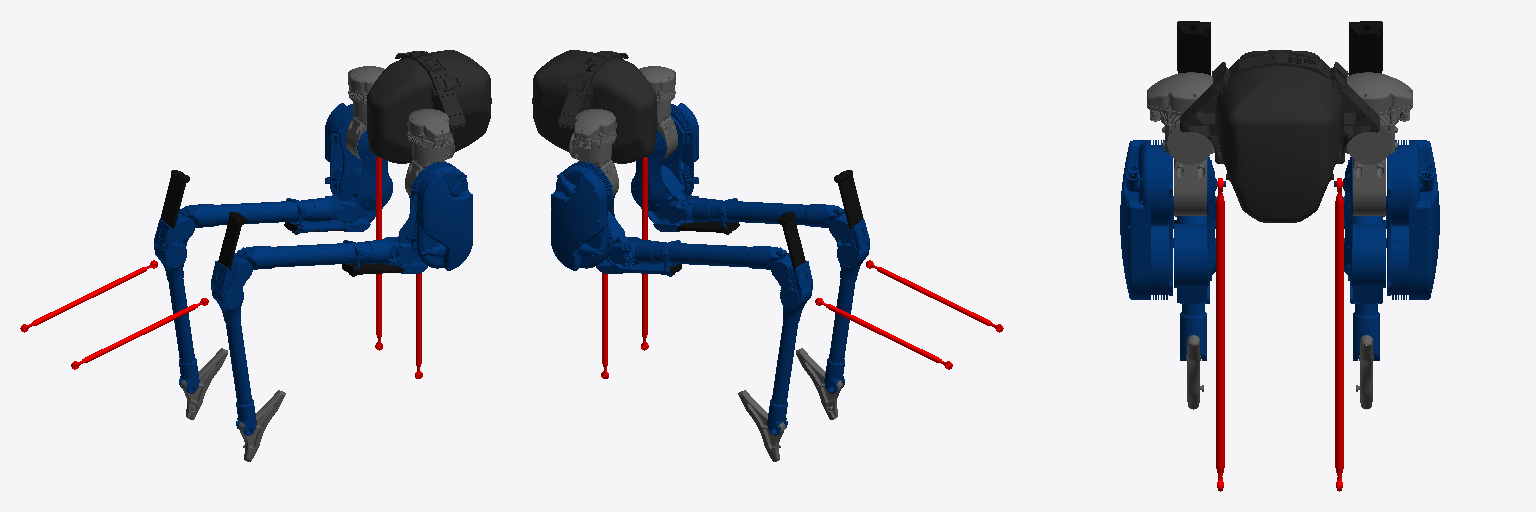
--- What the picture shows (computed from the rendered views, not written in the file) ---
The picture shows the robot from 3 angles, left to right: view 1: azimuth 30°, elevation 25°; view 2: azimuth 150°, elevation 25°; view 3: azimuth 270°, elevation 25°; orthographic projection.
Robot: cassie — 37 links, 36 joints (34 revolute, 2 fixed); root link pelvis; default pose: all joints at 0 but 6 set to mid-range because 0 is outside their limits (knee_left = -1.75, knee_right = -1.75, toe_crank_left = -1.48, toe_crank_right = -1.48, ankle_joint_left = 1.9, ankle_joint_right = 1.9).
Visible links, largest first — view 1: pelvis, thigh_right, shin_right, shin_left, tarsus_right, thigh_left, tarsus_left, yaw_right, knee_left, yaw_left, toe_left, toe_right (+9 smaller); view 2: pelvis, thigh_left, shin_left, shin_right, tarsus_left, thigh_right, tarsus_right, yaw_left, yaw_right, knee_left, toe_right, toe_left (+9 smaller); view 3: pelvis, thigh_left, thigh_right, yaw_left, yaw_right, achilles_rod_right, achilles_rod_left, knee_left, knee_right, heel_spring_left, heel_spring_right, hip_left (+5 smaller).
Link boxes in pixels (x1,y1,x2,y2): pelvis: (367, 50, 491, 163); thigh_right: (408, 162, 472, 270); shin_right: (232, 237, 415, 271); shin_left: (177, 195, 359, 230); tarsus_right: (211, 253, 256, 435); thigh_left: (325, 103, 392, 210); tarsus_left: (154, 211, 199, 393); yaw_right: (407, 109, 454, 162); knee_left: (288, 165, 392, 234); yaw_left: (348, 66, 384, 118); toe_left: (181, 348, 227, 419); toe_right: (238, 390, 285, 461); pelvis: (532, 50, 656, 163); thigh_left: (551, 162, 615, 270); shin_left: (608, 237, 791, 271); shin_right: (664, 195, 846, 230); tarsus_left: (767, 253, 812, 435); thigh_right: (631, 103, 698, 210); tarsus_right: (824, 211, 869, 393); yaw_left: (569, 109, 616, 162); yaw_right: (639, 66, 675, 118); knee_left: (596, 212, 679, 276); toe_right: (796, 348, 842, 419); toe_left: (738, 390, 785, 461); pelvis: (1180, 50, 1379, 222); thigh_left: (1334, 140, 1439, 299); thigh_right: (1120, 140, 1225, 299); yaw_left: (1345, 72, 1412, 164); yaw_right: (1147, 72, 1214, 164); achilles_rod_right: (1216, 178, 1224, 491); achilles_rod_left: (1335, 178, 1343, 491); knee_left: (1350, 220, 1385, 303); knee_right: (1174, 224, 1209, 303); heel_spring_left: (1349, 21, 1382, 75); heel_spring_right: (1177, 21, 1210, 75); hip_left: (1353, 159, 1385, 215).
Size in the robot's own frame: 1.14 by 0.4825 by 0.8441 metres.
Meshes: 20 distinct files referenced, 23 mesh visuals loaded (19 OBJ); not drawn: 2 (reference not matched to a file when rendering).

URDF robot description (cassie):
<robot name="cassie">

  <link name="pelvis">
    <inertial>
      <origin
        xyz=".05066 0.000346 .02841"
        rpy="0 0 0" />
      <mass value="10.33" />
      <inertia
        ixx=".094158"
        ixy=".0001685"
        ixz=".015026"
        iyy=".084066"
        iyz=".0005156"
        izz=".112770" />
    </inertial>
    <visual>
      <origin
        xyz="0 0 0"
        rpy="0 0 0" />
      <geometry>
        <mesh filename="package://cassie_description/meshes/pelvis.obj" />
      </geometry>
      <material name="">
        <color
          rgba="0.2 0.2 0.2 1.0" />
      </material>
    </visual>
  </link>

  <link name="yaw_left">
    <inertial>
      <origin
        xyz=".0257 0.0001 .0179"
        rpy="0 -1.570796 0" />
      <mass value="1.82" />
      <inertia
        ixx=".002722"
        ixy=".000000703"
        ixz=".00000153"
        iyy=".005586"
        iyz=".00000261"
        izz=".004638" />
    </inertial>
    <visual>
      <origin
        xyz="0 0 -0.07"
        rpy="0 -1.570796 0" />
      <geometry>
        <mesh filename="package://cassie_description/meshes/agility/left_yaw.obj" />
      </geometry>
      <material name="">
        <color rgba="0.4 0.4 0.4 1" />
      </material>
    </visual>
  </link>

  <link name="yaw_right">
    <inertial>
      <origin
        xyz=".0257 -0.0001 .0179"
        rpy="0 -1.570796 0" />
      <mass value="1.82" />
      <inertia
        ixx=".002722"
        ixy="-.000000703"
        ixz=".00000153"
        iyy=".005586"
        iyz="-.00000261"
        izz=".004638" />
    </inertial>
    <visual>
      <origin
        xyz="0 0 -0.07"
        rpy="0 -1.570796 0" />
      <geometry>
        <mesh filename="package://cassie_description/meshes/agility/right_yaw.obj" />
      </geometry>
      <material name="">
        <color rgba="0.4 0.4 0.4 1" />
      </material>
    </visual>
  </link>

  <link name="hip_left">
    <inertial>
      <origin
        xyz="-.05572 0 0.00001"
        rpy="-1.570796 1.570796 0" />
      <mass value="1.171" />
      <inertia
        ixx=".000842"
        ixy=".0000002462"
        ixz="-.0000006251"
        iyy=".006076"
        iyz="-.00000004"
        izz=".006436" />
    </inertial>
    <visual>
      <origin
        xyz="0 0 -0.09"
        rpy="-1.570796 1.570796 0" />
      <geometry>
        <mesh filename="package://cassie_description/meshes/agility/left_hip.obj" />
      </geometry>
      <material name="">
        <color rgba="0.4 0.4 0.4 1" />
      </material>
    </visual>
  </link>

  <link name="hip_right">
    <inertial>
      <origin
        xyz="-.05572 0 -0.00001"
        rpy="-1.570796 1.570796 0" />
      <mass value="1.171" />
      <inertia
        ixx=".000842"
        ixy=".0000002462"
        ixz=".0000006251"
        iyy=".006076"
        iyz=".00000004"
        izz=".006436" />
    </inertial>
    <visual>
      <origin
        xyz="0 0 -0.09"
        rpy="-1.570796 1.570796 0" />
      <geometry>
        <mesh filename="package://cassie_description/meshes/agility/right_hip.obj" />
      </geometry>
      <material name="">
        <color rgba="0.4 0.4 0.4 1" />
      </material>
    </visual>
  </link>

  <link name="thigh_left">
    <inertial>
      <origin
        xyz="0.05946 0.00005 -.03581"
        rpy="0 0 0" />
      <mass value="5.52" />
      <inertia
        ixx=".017969"
        ixy=".0002836"
        ixz="-.011685"
        iyy=".056284"
        iyz="-.00001926"
        izz=".049756" />
    </inertial>
    <visual>
      <origin
        xyz="0 0 0"
        rpy="0 0 0" />
      <geometry>
        <mesh filename="package://cassie_description/meshes/agility/left_thigh.obj" />
      </geometry>
      <material name="">
        <color rgba="0.024 0.24 0.5 1.0" />
      </material>
    </visual>
  </link>

  <link name="thigh_right">
    <inertial>
      <origin
        xyz="0.05946 0.00005 .03581"
        rpy="0 0 0" />
      <mass value="5.52" />
      <inertia
        ixx=".017969"
        ixy=".0002836"
        ixz=".011685"
        iyy=".056284"
        iyz=".00001926"
        izz=".049756" />
    </inertial>
    <visual>
      <origin
        xyz="0 0 0"
        rpy="0 0 0" />
      <geometry>
        <mesh filename="package://cassie_description/meshes/agility/right_thigh.obj" />
      </geometry>
      <material name="">
        <color rgba="0.024 0.24 0.5 1.0" />
      </material>
    </visual>
  </link>

  <link name="achilles_rod_left">
    <inertial>
      <origin
        xyz="0.24719 0 0"
        rpy="0 0 0" />
      <mass value="0.1567" />
      <inertia
        ixx=".000004"
        ixy="0"
        ixz="0"
        iyy=".014061"
        iyz="0"
        izz=".014061" />
    </inertial>
    <visual>
      <origin
        xyz="0 0 0"
        rpy="0 0 0" />
      <geometry>
        <mesh filename="package://cassie_description/meshes/achilles-rod.obj" />
      </geometry>
      <material name="">
        <color rgba="1 0 0 1.0" />
      </material>
    </visual>
  </link>

  <link name="achilles_hip_pitch_left"/>

  <link name="achilles_heel_roll_left"/>

  <link name="achilles_heel_pitch_left">
  </link>

  <link name="achilles_rod_right">
    <inertial>
      <origin
        xyz="0.24719 0 0"
        rpy="0 0 0" />
      <mass value="0.1567" />
      <inertia
        ixx=".000004"
        ixy="0"
        ixz="0"
        iyy=".014061"
        iyz="0"
        izz=".014061" />
    </inertial>
    <visual>
      <origin
        xyz="0 0 0"
        rpy="0 0 0" />
      <geometry>
        <mesh filename="package://cassie_description/meshes/achilles-rod.obj" />
      </geometry>
      <material name="">
        <color rgba="1 0 0 1.0" />
      </material>
    </visual>
  </link>

  <link name="achilles_hip_pitch_right"/>

  <link name="achilles_heel_roll_right"/>

  <link name="achilles_heel_pitch_right">
  </link>


  <link name="knee_left">
    <inertial>
      <origin
        xyz="0.023 0.03207 -0.002181"
        rpy="0 0 0" />
      <mass value="0.7578" />
      <inertia
        ixx=".002159"
        ixy=".0009564"
        ixz=".000002837"
        iyy=".001438"
        iyz=".000000739"
        izz=".003344" />
    </inertial>
    <visual>
      <origin
        xyz="0 0 0"
        rpy="0 0 0" />
      <geometry>
        <mesh filename="package://cassie_description/meshes/knee-output.obj" />
      </geometry>
      <material name="">
        <color rgba="0.024 0.24 0.5 1.0" />
      </material>
    </visual>
  </link>

  <link name="knee_right">
    <inertial>
      <origin
        xyz="0.023 0.03207 0.002181"
        rpy="0 0 0" />
      <mass value="0.7578" />
      <inertia
        ixx=".002159"
        ixy=".0009564"
        ixz=".000002837"
        iyy=".001438"
        iyz="-.000000739"
        izz=".003344" />
    </inertial>
    <visual>
      <origin
        xyz="0 0 0"
        rpy="0 0 0" />
      <geometry>
        <mesh filename="package://cassie_description/meshes/knee-output-r.obj" />
      </geometry>
      <material name="">
        <color rgba="0.024 0.24 0.5 1.0" />
      </material>
    </visual>
  </link>

  <link name="shin_left">
    <inertial>
      <origin
        xyz=".18338 0.001169 0.0002123"
        rpy="0 0 0" />
      <mass value="0.5771" />
      <inertia
        ixx=".0003602"
        ixy=".0003335"
        ixz="-.0000001941"
        iyy=".034132"
        iyz=".0000002652"
        izz=".034111" />
    </inertial>
    <visual>
      <origin
        xyz="0 0 0"
        rpy="0 0 0" />
      <geometry>
        <mesh filename="package://cassie_description/meshes/agility/left_shin.obj" />
      </geometry>
      <material name="">
        <color rgba="0.024 0.24 0.5 1.0" />
      </material>
    </visual>
  </link>

  <link name="shin_right">
    <inertial>
      <origin
        xyz=".18338 0.001169 -0.0002123"
        rpy="0 0 0" />
      <mass value="0.5771" />
      <inertia
        ixx=".0003602"
        ixy=".000334"
        ixz=".0000001941"
        iyy=".034132"
        iyz="-.0000002652"
        izz=".034111" />
    </inertial>
    <visual>
      <origin
        xyz="0 0 0"
        rpy="0 0 0" />
      <geometry>
        <mesh filename="package://cassie_description/meshes/agility/right_shin.obj" />
      </geometry>
      <material name="">
        <color rgba="0.024 0.24 0.5 1.0" />
      </material>
    </visual>
  </link>

  <link name="knee_spring_left">
    <inertial>
      <origin
        xyz=".08364 0.003427 0.0"
        rpy="0 0 0" />
      <mass value="0.1864" />
      <inertia
        ixx=".0000543"
        ixy=".00004601"
        ixz="0.0"
        iyy=".001712"
        iyz="0.0"
        izz=".001669" />
    </inertial>
    <visual>
      <origin
        xyz="0 0 0"
        rpy="0 0 0" />
      <geometry>
        <mesh filename="package://cassie_description/meshes/knee-spring.obj" />
      </geometry>
      <material name="">
        <color rgba="0.1 0.1 0.1 1" />
      </material>
    </visual>
  </link>

  <link name="knee_spring_right">
    <inertial>
      <origin
        xyz=".08364 0.003427 0.0"
        rpy="0 0 0" />
      <mass value="0.1864" />
      <inertia
        ixx=".0000543"
        ixy=".00004601"
        ixz="0.0"
        iyy=".001712"
        iyz="0.0"
        izz=".001669" />
    </inertial>
    <visual>
      <origin
        xyz="0 0 0"
        rpy="0 0 0" />
      <geometry>
        <mesh filename="package://cassie_description/meshes/knee-spring.obj" />
      </geometry>
      <material name="">
        <color rgba="0.1 0.1 0.1 1" />
      </material>
    </visual>
  </link>

  <link name="tarsus_left">
    <inertial>
      <origin
        xyz=".11046 -.03058 -.00131"
        rpy="0 0 0" />
      <mass value="0.782" />
      <inertia
        ixx=".001125"
        ixy="-.002878"
        ixz="-.00006329"
        iyy=".023138"
        iyz=".00003615"
        izz=".023947" />
    </inertial>
    <visual>
      <origin
        xyz="0 0 0"
        rpy="0 0 0" />
      <geometry>
        <mesh filename="package://cassie_description/meshes/tarsus.obj" />
      </geometry>
      <material name="">
        <color rgba="0.024 0.24 0.5 1.0" />
      </material>
    </visual>
  </link>

  <link name="tarsus_right">
    <inertial>
      <origin
        xyz=".11046 -.03058 -.00131"
        rpy="0 0 0" />
      <mass value="0.782" />
      <inertia
        ixx=".001125"
        ixy="-.002878"
        ixz=".00006329"
        iyy=".023138"
        iyz="-.00003615"
        izz=".023947" />
    </inertial>
    <visual>
      <origin
        xyz="0 0 0"
        rpy="0 0 0" />
      <geometry>
        <mesh filename="package://cassie_description/meshes/tarsus-r.obj" />
      </geometry>
      <material name="">
        <color rgba="0.024 0.24 0.5 1.0" />
      </material>
    </visual>
  </link>

  <link name="heel_spring_left">
    <inertial>
      <origin
        xyz="0.08097 0.00223 -0.0000385"
        rpy="0 0 0" />
      <mass value="0.1259" />
      <inertia
        ixx=".00003016"
        ixy=".00001528"
        ixz=".000000575"
        iyy=".001049"
        iyz="-.0000000557"
        izz=".001028" />
    </inertial>
    <visual>
      <origin
        xyz="0 0 0"
        rpy="0 0 0" />
      <geometry>
        <mesh filename="package://cassie_description/meshes/heel-spring.obj" />
      </geometry>
      <material name="">
        <color rgba="0.1 0.1 0.1 1" />
      </material>
    </visual>
  </link>

  <link name="heel_spring_right">
    <inertial>
      <origin
        xyz="0.08097 0.00223 -0.0000385"
        rpy="0 0 0" />
      <mass value="0.1259" />
      <inertia
        ixx=".00003016"
        ixy=".00001528"
        ixz=".000000575"
        iyy=".001049"
        iyz="-.0000000557"
        izz=".001028" />
    </inertial>
    <visual>
      <origin
        xyz="0 0 0"
        rpy="0 0 0" />
      <geometry>
        <mesh filename="package://cassie_description/meshes/heel-spring.obj" />
      </geometry>
      <material name="">
        <color rgba="0.1 0.1 0.1 1" />
      </material>
    </visual>
  </link>

  <link name="foot_crank_link_left">
    <inertial>
      <origin
        xyz="0.00481 0.00002 -0.00293"
        rpy="0 0 0" />
      <mass value="0.129" />
      <inertia
        ixx=".0000307"
        ixy=".0000000019"
        ixz=".00000262"
        iyy=".00005705"
        iyz=".0000000066"
        izz=".00006643" />
    </inertial>
    <visual>
      <origin
        xyz="0 0 0"
        rpy="0 0 0" />
      <geometry>
        <mesh filename="package://cassie_description/meshes/agility/foot_crank.obj" />
      </geometry>
      <material name="">
        <color rgba="0.024 0.24 0.5 1.0" />
        <!-- <color rgba="1.0 0.423529411765 0.0392156862745 1.0" /> -->
      </material>
    </visual>
  </link>

  <link name="plantar_rod_left">
    <inertial>
      <origin
        xyz="0.17792 0 0"
        rpy="0 0 0" />
      <mass value="0.1186" />
      <inertia
        ixx=".0000028"
        ixy="0"
        ixz="0"
        iyy=".005530"
        iyz="0"
        izz=".005530" />
    </inertial>
    <visual>
      <origin
        xyz="0 0 0"
        rpy="0 0 0" />
      <geometry>
        <mesh filename="package://cassie_description/meshes/plantar-rod.obj" />
      </geometry>
      <material name="">
        <color rgba="1 0 0 1.0" />
      </material>
    </visual>
  </link>

  <link name="plantar_crank_pitch_left"/>

  <link name="plantar_foot_roll_left"/>
  <link name="plantar_foot_pitch_left"/>

  <link name="plantar_rod_right">
    <inertial>
      <origin
        xyz="0.17792 0 0"
        rpy="0 0 0" />
      <mass value="0.1186" />
      <inertia
        ixx=".0000028"
        ixy="0"
        ixz="0"
        iyy=".005530"
        iyz="0"
        izz=".005530" />
    </inertial>
    <visual>
      <origin
        xyz="0 0 0"
        rpy="0 0 0" />
      <geometry>
        <mesh filename="package://cassie_description/meshes/plantar-rod.obj" />
      </geometry>
      <material name="">
        <color rgba="1 0 0 1.0" />
      </material>
    </visual>
  </link>

  <link name="plantar_crank_pitch_right"/>

  <link name="plantar_foot_roll_right"/>

  <link name="plantar_foot_pitch_right"/>

  <link name="foot_crank_link_right">
    <inertial>
      <origin
        xyz="0.00481 0.00002 -0.00293"
        rpy="0 0 0" />
      <mass value="0.129" />
      <inertia
        ixx=".0000307"
        ixy=".0000000019"
        ixz=".00000262"
        iyy=".00005705"
        iyz=".0000000066"
        izz=".00006643" />
    </inertial>
    <visual>
      <origin
        xyz="0 0 0"
        rpy="0 0 0" />
      <geometry>
        <mesh filename="package://cassie_description/meshes/agility/foot_crank.obj" />
      </geometry>
      <material name="">
        <color rgba="0.024 0.24 0.5 1.0" />
        <!-- <color rgba="1.0 0.423529411765 0.0392156862745 1.0" /> -->
      </material>
    </visual>
  </link>

  <link name="toe_left">
    <inertial>
      <origin
        xyz="0.00474 0.02748 -0.00014"
        rpy="0 0 0" />
      <mass value="0.1498" />
      <inertia
        ixx=".000287"
        ixy="-.00009863"
        ixz="-.000001456"
        iyy=".0001713"
        iyz=".0000001716"
        izz=".0004491" />
    </inertial>
    <visual>
      <origin
        xyz="0 0 0"
        rpy="0 0 0" />
      <geometry>
        <mesh filename="package://cassie_description/meshes/agility/left_foot.obj" />
        <!-- <mesh filename="package://cassie_description/meshes/toe.obj" /> -->
      </geometry>
      <material name="">
        <color rgba="0.4 0.4 0.4 1" />
      </material>
    </visual>

    <visual>
      <geometry>
        <sphere radius="0.001"/>
      </geometry>
      <origin xyz="-0.0457 .112 0" rpy="0 0 0"/>
    </visual>
    <collision>
      <geometry>
        <sphere radius="0.0"/>
      </geometry>
      <origin xyz="-0.0457 .112 0" rpy="0 0 0"/>
    </collision>
   <visual>
      <geometry>
        <sphere radius="0.001"/>
      </geometry>
      <origin xyz="0.088 0 0" rpy="0 0 0"/>
    </visual>
    <collision>
      <geometry>
        <sphere radius="0.0"/>
      </geometry>
      <origin xyz="0.088 0 0" rpy="0 0 0"/>
    </collision>
   </link>

  <link name="toe_right">
    <inertial>
      <origin
        xyz="0.00474 0.02748 0.00014"
        rpy="0 0 0" />
      <mass value="0.1498" />
      <inertia
        ixx=".000287"
        ixy="-.00009863"
        ixz=".000001456"
        iyy=".0001713"
        iyz="-.0000001716"
        izz=".0004491" />
    </inertial>
    <visual>
      <origin
        xyz="0 0 0"
        rpy="0 0 0" />
      <geometry>
        <mesh filename="package://cassie_description/meshes/agility/right_foot.obj" />
        <!-- <mesh filename="package://cassie_description/meshes/toe-r.obj" /> -->
      </geometry>
      <material name="">
        <color rgba="0.4 0.4 0.4 1" />
      </material>
    </visual>
        <visual>
      <geometry>
        <sphere radius="0.001"/>
      </geometry>
      <origin xyz="-0.0457 .112 0" rpy="0 0 0"/>
    </visual>
    <collision>
      <geometry>
        <sphere radius="0.0"/>
      </geometry>
      <origin xyz="-0.0457 .112 0" rpy="0 0 0"/>
    </collision>
   <visual>
      <geometry>
        <sphere radius="0.001"/>
      </geometry>
      <origin xyz="0.088 0 0" rpy="0 0 0"/>
    </visual>
    <collision>
      <geometry>
        <sphere radius="0.0"/>
      </geometry>
      <origin xyz="0.088 0 0" rpy="0 0 0"/>
    </collision>
  </link>


 
 <!-- JOINTS ||| JOINTS ||| JOINTS ||| JOINTS ||| JOINTS |||-->
 <!-- JOINTS ||| JOINTS ||| JOINTS ||| JOINTS ||| JOINTS |||-->
 <!-- JOINTS ||| JOINTS ||| JOINTS ||| JOINTS ||| JOINTS |||-->
 <!-- JOINTS ||| JOINTS ||| JOINTS ||| JOINTS ||| JOINTS |||-->
 <!-- JOINTS ||| JOINTS ||| JOINTS ||| JOINTS ||| JOINTS |||-->
 <!-- JOINTS ||| JOINTS ||| JOINTS ||| JOINTS ||| JOINTS |||-->
 <!-- JOINTS ||| JOINTS ||| JOINTS ||| JOINTS ||| JOINTS |||-->
 <!-- JOINTS ||| JOINTS ||| JOINTS ||| JOINTS ||| JOINTS |||-->
 <!-- JOINTS ||| JOINTS ||| JOINTS ||| JOINTS ||| JOINTS |||-->
 <!-- JOINTS ||| JOINTS ||| JOINTS ||| JOINTS ||| JOINTS |||-->


  <joint name="hip_roll_left" type="revolute">
    <origin xyz=".021 .135 0" rpy="0 1.570796 0" />
    <parent link="pelvis" />
    <child link="yaw_left" />
    <axis xyz="0 0 1" />
    <limit lower="-0.262" upper="0.393" effort="300"/>
    <dynamics damping="1" /> 
  </joint>

  <joint name="hip_roll_right" type="revolute">
    <origin xyz=".021 -.135 0" rpy="0 1.570796 0" />
    <parent link="pelvis" />
    <child link="yaw_right" />
    <axis xyz="0 0 1" />
    <limit lower="-0.393" upper="0.262" effort="300"/>
    <dynamics damping="1" /> 
  </joint> 


  <joint name="hip_yaw_left" type="revolute">
    <origin xyz="0 0 -0.07" rpy="0 -1.570796 0" />
    <parent link="yaw_left" />
    <child link="hip_left" />
    <axis xyz="0 0 1" />
    <limit lower="-0.393" upper="0.393" effort="300"/>
    <dynamics damping="1" /> 
  </joint>

   <joint name="hip_yaw_right" type="revolute">
    <origin xyz="0 0 -0.07" rpy="0 -1.570796 0" />
    <parent link="yaw_right" />
    <child link="hip_right" />
    <axis xyz="0 0 1" />
    <limit lower="-0.393" upper="0.393" effort="300"/>
    <dynamics damping="1" /> 
  </joint>


  <joint name="hip_pitch_left" type="revolute">
    <origin xyz="0 0 -0.09" rpy="1.570796 1.570796 0" />
    <parent link="hip_left" />
    <child link="thigh_left" />
    <axis xyz="0 0 1" />
    <limit lower="-0.873" upper="1.396" effort="300"/>
    <dynamics damping="1" /> 
  </joint>

  <joint name="hip_pitch_right" type="revolute">
    <origin xyz="0 0 -0.09" rpy="1.570796 1.570796 0" />
    <parent link="hip_right" />
    <child link="thigh_right" />
    <axis xyz="0 0 1" />
    <limit lower="-0.873" upper="1.396" effort="300"/>
    <dynamics damping="1" /> 
  </joint>

  <joint name="achilles_hip_left" type="revolute">
    <origin xyz ="0  0  .045" rpy="0 0 0" />
    <parent link="thigh_left" />
    <child link="achilles_hip_pitch_left" />
    <axis xyz ="0 1 0" />
    <dynamics damping="0.01" />
    <limit lower="-3.14" upper="3.14"/>
  </joint>

  <joint name="achilles_hip_pitch_left" type="revolute">
    <parent link="achilles_hip_pitch_left" />
    <child link="achilles_rod_left" />
    <axis xyz ="0 0 1" />
    <dynamics damping="0.01" />
    <limit lower="-3.14" upper="3.14"/>
  </joint>

  <joint name="achilles_heel_roll_left" type="revolute">
    <origin xyz=".5012 0 0" />
    <parent link="achilles_rod_left" />
    <child link="achilles_heel_roll_left" />
    <axis xyz ="1 0 0" />
    <dynamics damping="0.01" />
    <limit lower="-20" upper="20"/>
  </joint>

  <joint name="achilles_heel_pitch_left" type="revolute">
    <origin xyz="0 0 0" />
    <parent link="achilles_heel_roll_left" />
    <child link="achilles_heel_pitch_left" />
    <axis xyz ="0 1 0" />
    <dynamics damping="0.01" />
    <limit lower="-3.14" upper="3.14"/>
  </joint>

  <joint name="achilles_hip_right" type="revolute">
    <origin xyz ="0  0  -.045" rpy="0 0 0" />
    <parent link="thigh_right" />
    <child link="achilles_hip_pitch_right" />
    <axis xyz ="0 1 0" />
    <dynamics damping="0.01" />
    <limit lower="-3.14" upper="3.14"/>
  </joint>

  <joint name="achilles_hip_pitch_right" type="revolute">
    <parent link="achilles_hip_pitch_right" />
    <child link="achilles_rod_right" />
    <axis xyz ="0 0 1" />
    <dynamics damping="0.01" />
    <limit lower="-3.14" upper="3.14"/>
  </joint>

  <joint name="achilles_heel_roll_right" type="revolute">
    <origin xyz=".5012 0 0" />
    <parent link="achilles_rod_right" />
    <child link="achilles_heel_roll_right" />
    <axis xyz ="1 0 0" />
    <dynamics damping="0.01" />
    <limit lower="-3.14" upper="3.14"/>
  </joint>

  <joint name="achilles_heel_pitch_right" type="revolute">
    <origin xyz="0 0 0" />
    <parent link="achilles_heel_roll_right" />
    <child link="achilles_heel_pitch_right" />
    <axis xyz ="0 1 0" />
    <dynamics damping="0.01" />
    <limit lower="-3.14" upper="3.14"/>
  </joint>


  <joint name="knee_left" type="revolute">
    <origin xyz="0.12 0 0.0045" rpy="0 0 0" />
    <parent link="thigh_left" />
    <child link="knee_left" />
    <axis xyz="0 0 1" />
    <limit lower="-2.862" upper="-0.646" effort="300"/>
    <dynamics damping="1" />
  </joint>

  <joint name="knee_right" type="revolute">
    <origin xyz="0.12 0 -0.0045" rpy="0 0 0" />
    <parent link="thigh_right" />
    <child link="knee_right" />
    <axis xyz="0 0 1" />
    <limit lower="-2.862" upper="-0.646" effort="300"/>
    <dynamics damping="1" />
  </joint>


  <joint name="toe_crank_left" type="revolute">
    <origin xyz="0.058 -0.034 0.02275" rpy="0 0 0" />
    <parent link="tarsus_left" />
    <child link="foot_crank_link_left" />
    <axis xyz="0 0 1" />
    <limit lower="-2.443" upper="-0.524" effort="300"/>
    <dynamics damping="1" />
  </joint>

  <joint name="plantar_crank_left" type="revolute">
    <origin xyz ="0.055  0  -.00791" rpy="0 0 0" />
    <parent link="foot_crank_link_left" />
    <child link="plantar_crank_pitch_left" />
    <axis xyz ="0 1 0" />
    <dynamics damping="0.01" />
    <limit lower="-3.14" upper="3.14"/>
  </joint>

  <joint name="plantar_crank_pitch_left" type="revolute">
    <parent link="plantar_crank_pitch_left" />
    <child link="plantar_rod_left" />
    <axis xyz ="0 0 1" />
    <dynamics damping="0.01" />
    <limit lower="-3.14" upper="3.14"/>
  </joint>

  <joint name="plantar_foot_roll_left" type="revolute">
    <origin xyz=".35012 0 0" />
    <parent link="plantar_rod_left" />
    <child link="plantar_foot_roll_left" />
    <axis xyz ="1 0 0" />
    <dynamics damping="0.01" />
    <limit lower="-3.14" upper="3.14"/>
  </joint>

  <joint name="plantar_foot_pitch_left" type="revolute">
    <origin xyz="0 0 0" />
    <parent link="plantar_foot_roll_left" />
    <child link="plantar_foot_pitch_left" />
    <axis xyz ="0 1 0" />
    <dynamics damping="0.01" />
    <limit lower="-3.14" upper="3.14"/>
  </joint>

  <joint name="plantar_crank_right" type="revolute">
    <origin xyz ="0.055  0  .00791" rpy="0 0 0" />
    <parent link="foot_crank_link_right" />
    <child link="plantar_crank_pitch_right" />
    <axis xyz ="0 1 0" />
    <dynamics damping="0.01" />
    <limit lower="-3.14" upper="3.14"/>
  </joint>

  <joint name="plantar_crank_pitch_right" type="revolute">
    <parent link="plantar_crank_pitch_right" />
    <child link="plantar_rod_right" />
    <axis xyz ="0 0 1" />
    <dynamics damping="0.01" />
    <limit lower="-3.14" upper="3.14"/>
  </joint>

  <joint name="plantar_foot_roll_right" type="revolute">
    <origin xyz=".35012 0 0" />
    <parent link="plantar_rod_right" />
    <child link="plantar_foot_roll_right" />
    <axis xyz ="1 0 0" />
    <dynamics damping="0.01" />
    <limit lower="-3.14" upper="3.14"/>
  </joint>

  <joint name="plantar_foot_pitch_right" type="revolute">
    <origin xyz="0 0 0" />
    <parent link="plantar_foot_roll_right" />
    <child link="plantar_foot_pitch_right" />
    <axis xyz ="0 1 0" />
    <dynamics damping="0.01" />
    <limit lower="-3.14" upper="3.14"/>
  </joint>


  <joint name="toe_crank_right" type="revolute">
    <origin xyz="0.058 -0.034 -0.02275" rpy="0 0 0" />
    <parent link="tarsus_right" />
    <child link="foot_crank_link_right" />
    <axis xyz="0 0 1" />
    <limit lower="-2.443" upper="-0.524" effort="300"/>
    <dynamics damping="1" />
  </joint>


  <joint name="knee_joint_left" type="revolute">
    <origin xyz="0.06068 0.04741 0" rpy="0 0 0" />
    <parent link="knee_left" />
    <child link="shin_left" />
    <axis xyz="0 0 1" />
    <limit lower="-.1" upper="0.075"/>
    <dynamics damping=".10" />
  </joint>

  <joint name="knee_joint_right" type="revolute">
    <origin xyz="0.06068 0.04741 0" rpy="0 0 0" />
    <parent link="knee_right" />
    <child link="shin_right" />
    <axis xyz="0 0 1" />
    <limit lower="-.1" upper="0.075"/>
    <dynamics damping=".10" />
  </joint>


  <joint name="knee_spring_left_fixed" type="fixed">
    <origin xyz="0.06068 0.08241 0" rpy="0 0 0" />
    <parent link="knee_left" />
    <child link="knee_spring_left" />
  </joint> 

  <joint name="knee_spring_right_fixed" type="fixed">
    <origin xyz="0.06068 0.08241 0" rpy="0 0 0" />
    <parent link="knee_right" />
    <child link="knee_spring_right" />
  </joint> 


  <joint name="ankle_joint_left" type="revolute">
    <origin xyz="0.43476 0.02 0" rpy="0 0 0" />
    <parent link="shin_left" />
    <child link="tarsus_left" />
    <axis xyz="0 0 1" />
    <limit lower=".8" upper="3"/>
    <dynamics damping="0.1" /> 
  </joint>

  <joint name="ankle_joint_right" type="revolute">
    <origin xyz="0.43476 0.02 0" rpy="0 0 0" />
    <parent link="shin_right" />
    <child link="tarsus_right" />
    <axis xyz="0 0 1" />
    <limit lower=".8" upper="3"/>
    <dynamics damping="0.1" />
  </joint>

<!-- rpy="-0.0689 -0.0370 2.7208"-->
  <joint name="ankle_spring_joint_left" type="revolute">
    <origin xyz="-.01269 -.03059 .00092" rpy="0.0780 0.00549 2.7192" />
    <parent link="tarsus_left" />
    <child link="heel_spring_left" />
    <limit lower="-.1" upper="0.1"/>
    <axis xyz="0 0 1" />
    <dynamics damping="10" /> <!-- made up value -->
  </joint> 

<!-- rpy="0.0734 0.0269 2.7201"-->
  <joint name="ankle_spring_joint_right" type="revolute">
    <origin xyz="-.01269 -.03059 -.00092" rpy="-0.0780 -0.00549 2.7192" />
    <parent link="tarsus_right" />
    <child link="heel_spring_right" />
    <limit lower="-.1" upper="0.1"/>
    <axis xyz="0 0 1" />
    <dynamics damping="10" /> <!-- made up value -->
  </joint> 


  <joint name="toe_left" type="revolute">
    <origin xyz="0.408 -0.040 0" rpy="0 0 0" />
    <parent link="tarsus_left" />
    <child link="toe_left" />
    <axis xyz="0 0 1" />
    <limit lower="-3.14" upper="3.14"/>
    <dynamics damping="1" /> 
  </joint>

  <joint name="toe_right" type="revolute">
    <origin xyz="0.408 -0.040 0" rpy="0 0 0" />
    <parent link="tarsus_right" />
    <child link="toe_right" />
    <axis xyz="0 0 1" />
    <limit lower="-3.14" upper="3.14"/>
    <dynamics damping="1" /> 
  </joint>

 <!-- LOOP_JOINTS ||| LOOP_JOINTS ||| LOOP_JOINTS ||| LOOP_JOINTS |||-->
 <loop_joint name="achilles_loop_left">
    <link1 link="achilles_heel_pitch_left" xyz="0 0 0" />
    <link2 link="heel_spring_left" xyz=".11877 -.01 0" />
    <axis xyz="0 0 1"/>
  </loop_joint>

 <loop_joint name="achilles_loop_right">
    <link1 link="achilles_heel_pitch_right" xyz="0 0 0" />
    <link2 link="heel_spring_right" xyz=".11877 -.01 0" />
    <axis xyz="0 0 1"/>
  </loop_joint>

 <loop_joint name="plantar_loop_left">
    <link1 link="plantar_foot_pitch_left" xyz="0 0 0" />
    <link2 link="toe_left" xyz=".055 0 .00776" />
    <axis xyz="0 0 1"/>
  </loop_joint>

 <loop_joint name="plantar_loop_right">
    <link1 link="plantar_foot_pitch_right" xyz="0 0 0" />
    <link2 link="toe_right" xyz=".055 0 -.00776" />
    <axis xyz="0 0 1"/>
  </loop_joint>

 <!-- MOTORS ||| MOTORS ||| MOTORS ||| MOTORS ||| MOTORS |||-->
 <!-- MOTORS ||| MOTORS ||| MOTORS ||| MOTORS ||| MOTORS |||-->
 <!-- MOTORS ||| MOTORS ||| MOTORS ||| MOTORS ||| MOTORS |||-->
 <!-- MOTORS ||| MOTORS ||| MOTORS ||| MOTORS ||| MOTORS |||-->
 <!-- MOTORS ||| MOTORS ||| MOTORS ||| MOTORS ||| MOTORS |||-->
 <!-- MOTORS ||| MOTORS ||| MOTORS ||| MOTORS ||| MOTORS |||-->
 <!-- MOTORS ||| MOTORS ||| MOTORS ||| MOTORS ||| MOTORS |||-->
 <!-- MOTORS ||| MOTORS ||| MOTORS ||| MOTORS ||| MOTORS |||-->
 <!-- MOTORS ||| MOTORS ||| MOTORS ||| MOTORS ||| MOTORS |||-->
 <!-- MOTORS ||| MOTORS ||| MOTORS ||| MOTORS ||| MOTORS |||-->

  <transmission name="hip_roll_left_trans" type="transmission_interface/SimpleTransmission">
    <actuator name="hip_roll_left_motor"/>
    <joint name="hip_roll_left"/>
    <mechanicalReduction>1</mechanicalReduction>
  </transmission>

  <transmission name="hip_roll_right_trans" type="transmission_interface/SimpleTransmission">
    <actuator name="hip_roll_right_motor"/>
    <joint name="hip_roll_right"/>
    <mechanicalReduction>1</mechanicalReduction>
  </transmission>

  <transmission name="hip_yaw_left_trans" type="transmission_interface/SimpleTransmission">
    <actuator name="hip_yaw_left_motor"/>
    <joint name="hip_yaw_left"/>
    <mechanicalReduction>1</mechanicalReduction>
  </transmission>

  <transmission name="hip_yaw_right_trans" type="transmission_interface/SimpleTransmission">
    <actuator name="hip_yaw_right_motor"/>
    <joint name="hip_yaw_right"/>
    <mechanicalReduction>1</mechanicalReduction>
  </transmission>

  <transmission name="hip_pitch_left_trans" type="transmission_interface/SimpleTransmission">
    <actuator name="hip_pitch_left_motor"/>
    <joint name="hip_pitch_left"/>
    <mechanicalReduction>1</mechanicalReduction>
  </transmission>

  <transmission name="hip_pitch_right_trans" type="transmission_interface/SimpleTransmission">
    <actuator name="hip_pitch_right_motor"/>
    <joint name="hip_pitch_right"/>
    <mechanicalReduction>1</mechanicalReduction>
  </transmission>

  <transmission name="knee_left_trans" type="transmission_interface/SimpleTransmission">
    <actuator name="knee_left_motor"/>
    <joint name="knee_left"/>
    <mechanicalReduction>1</mechanicalReduction>
  </transmission>

  <transmission name="knee_right_trans" type="transmission_interface/SimpleTransmission">
    <actuator name="knee_right_motor"/>
    <joint name="knee_right"/>
    <mechanicalReduction>1</mechanicalReduction>
  </transmission>

  <transmission name="toe_crank_left_trans" type="transmission_interface/SimpleTransmission">
    <actuator name="toe_crank_left_motor"/>
    <joint name="toe_crank_left"/>
    <mechanicalReduction>1</mechanicalReduction>
  </transmission>

  <transmission name="toe_crank_right_trans" type="transmission_interface/SimpleTransmission">
    <actuator name="toe_crank_right_motor"/>
    <joint name="toe_crank_right"/>
    <mechanicalReduction>1</mechanicalReduction>
  </transmission>

 <!-- SPRINGS ||| SPRINGS ||| SPRINGS ||| SPRINGS ||| SPRINGS |||-->
 <!-- SPRINGS ||| SPRINGS ||| SPRINGS ||| SPRINGS ||| SPRINGS |||-->
 <!-- SPRINGS ||| SPRINGS ||| SPRINGS ||| SPRINGS ||| SPRINGS |||-->
 <!-- SPRINGS ||| SPRINGS ||| SPRINGS ||| SPRINGS ||| SPRINGS |||-->
 <!-- SPRINGS ||| SPRINGS ||| SPRINGS ||| SPRINGS ||| SPRINGS |||-->
 <!-- SPRINGS ||| SPRINGS ||| SPRINGS ||| SPRINGS ||| SPRINGS |||-->
 <!-- SPRINGS ||| SPRINGS ||| SPRINGS ||| SPRINGS ||| SPRINGS |||-->
 <!-- SPRINGS ||| SPRINGS ||| SPRINGS ||| SPRINGS ||| SPRINGS |||-->
 <!-- SPRINGS ||| SPRINGS ||| SPRINGS ||| SPRINGS ||| SPRINGS |||-->
 <!-- SPRINGS ||| SPRINGS ||| SPRINGS ||| SPRINGS ||| SPRINGS |||-->

  <!-- Real springs -->
  <force_element name="left_knee_spring">
    <torsional_spring stiffness="2300" rest_angle="0" >
      <joint name="knee_joint_left" />
    </torsional_spring>
  </force_element>

  <force_element name="left_ankle_spring">
    <torsional_spring stiffness="2000" rest_angle="0">
      <joint name="ankle_spring_joint_left" />
    </torsional_spring>
  </force_element>

  <force_element name="right_knee_spring">
    <torsional_spring stiffness="2300" rest_angle="0" >
      <joint name="knee_joint_right" />
    </torsional_spring>
  </force_element>

  <force_element name="right_ankle_spring">
    <torsional_spring stiffness="2000" rest_angle="0">
      <joint name="ankle_spring_joint_right" />
    </torsional_spring>
  </force_element>

</robot>
